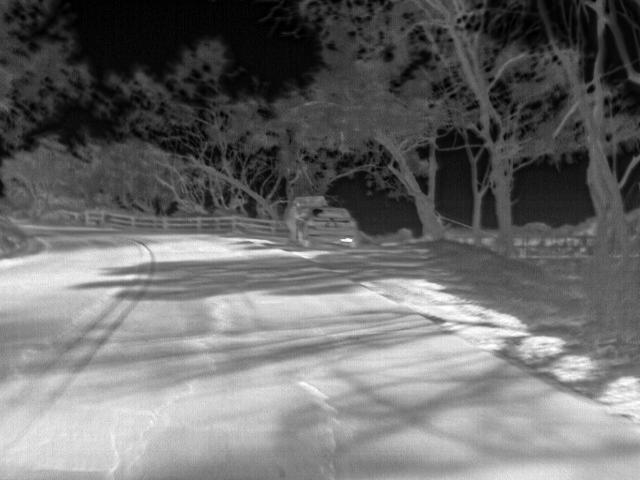car: (306, 207, 360, 250)
person: (284, 198, 306, 248)
